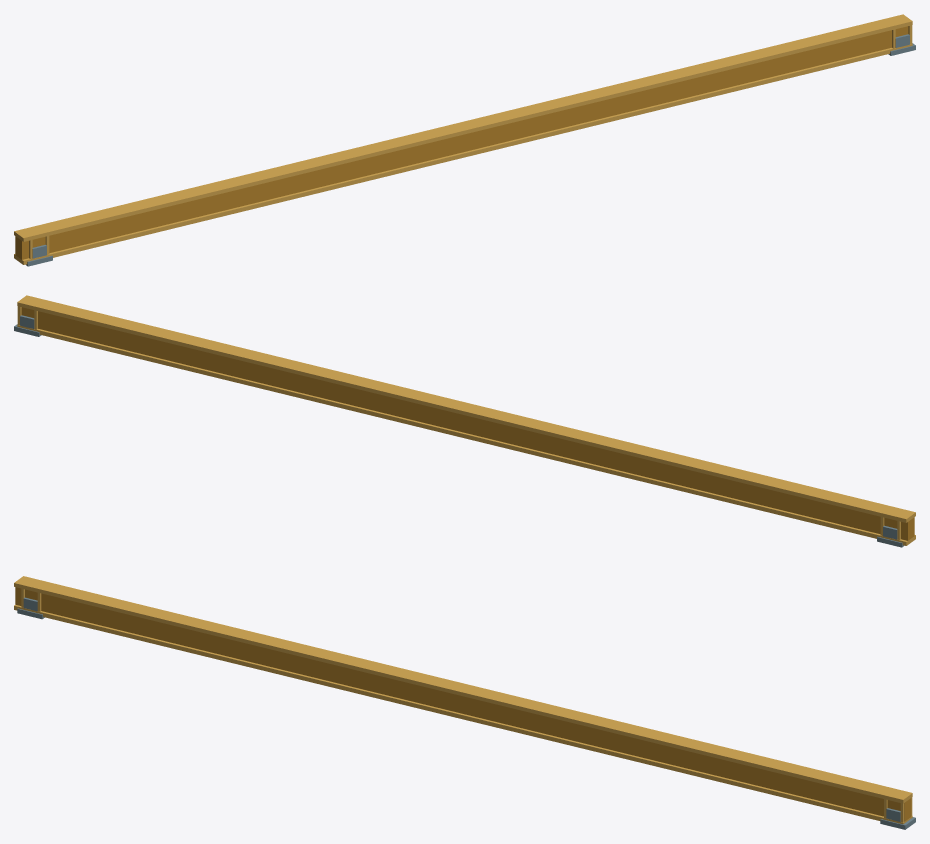
The model's file is bridge.glb.
The picture shows the model from 3 angles, top to bottom: view 1: azimuth 30°, elevation 25°; view 2: azimuth 150°, elevation 25°; view 3: azimuth 330°, elevation 25°; orthographic projection.
Visible parts, largest first — view 1: bridge-flanges-and-stiffeners, bridge-box-web, bridge-bearing-and-diaphragm; view 2: bridge-flanges-and-stiffeners, bridge-box-web, bridge-bearing-and-diaphragm; view 3: bridge-flanges-and-stiffeners, bridge-box-web, bridge-bearing-and-diaphragm.
Part boxes in pixels (x1=…): bridge-flanges-and-stiffeners: x1=14, y1=14, x2=912, y2=264; bridge-box-web: x1=15, y1=26, x2=908, y2=259; bridge-bearing-and-diaphragm: x1=26, y1=34, x2=915, y2=266; bridge-flanges-and-stiffeners: x1=17, y1=295, x2=915, y2=545; bridge-box-web: x1=21, y1=307, x2=914, y2=540; bridge-bearing-and-diaphragm: x1=14, y1=315, x2=903, y2=547; bridge-flanges-and-stiffeners: x1=14, y1=576, x2=912, y2=824; bridge-box-web: x1=15, y1=587, x2=911, y2=821; bridge-bearing-and-diaphragm: x1=17, y1=597, x2=915, y2=829.
Size of the model in its own units: 27.08 by 0.84 by 0.56.
